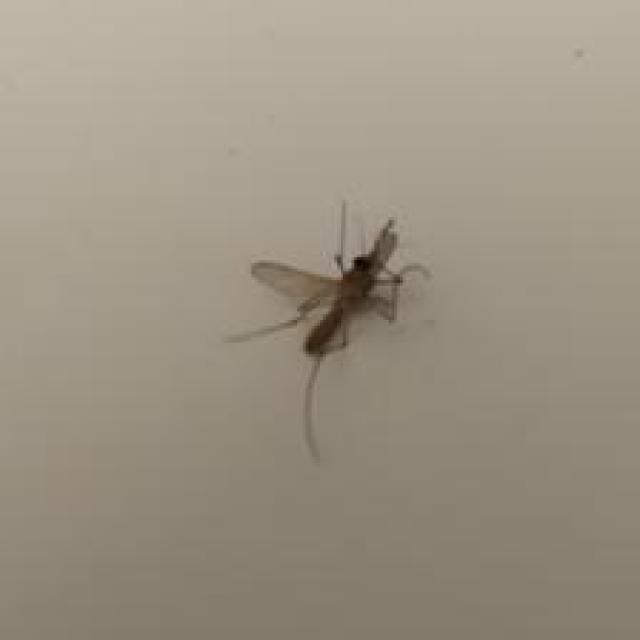Culex: (221, 200, 433, 466)
